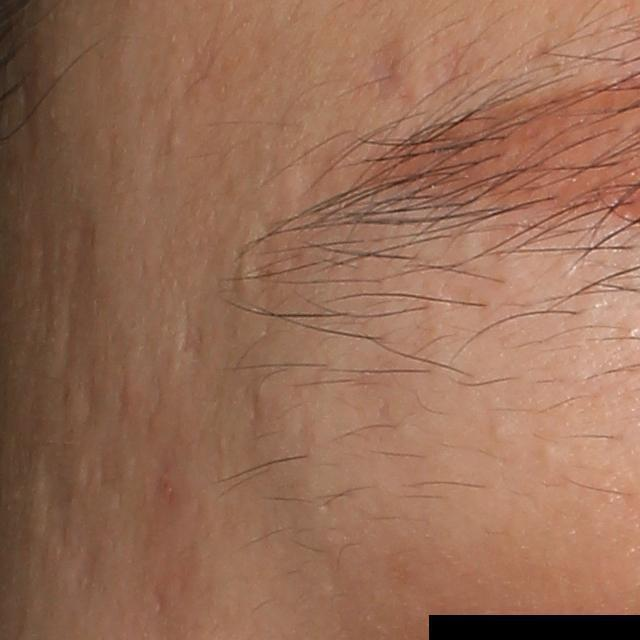comedo: (534, 438, 560, 464), (487, 421, 511, 445), (166, 128, 184, 149)
